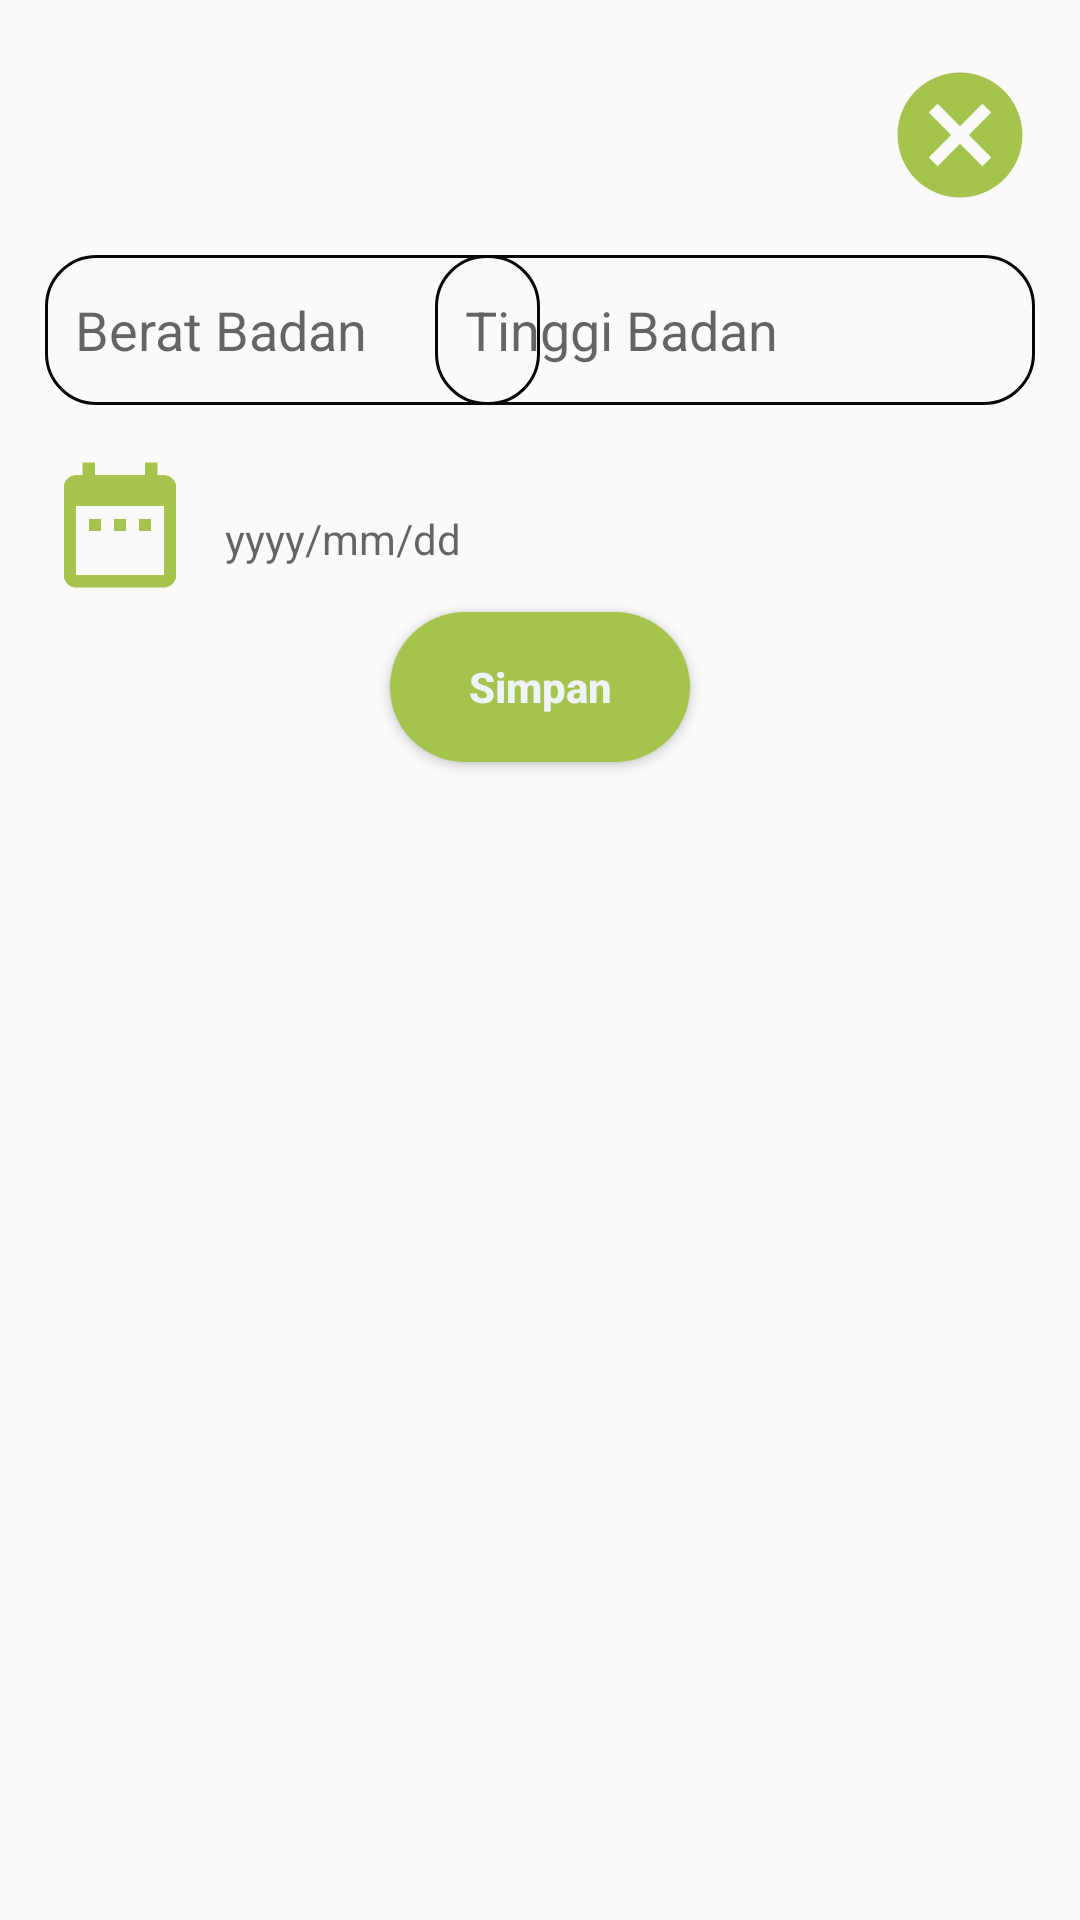

Point at icon controls on the screen. Image size 1080px×1920px, points as (x=x, y=y).
batal: (x=960, y=135)
date: (x=120, y=525)
